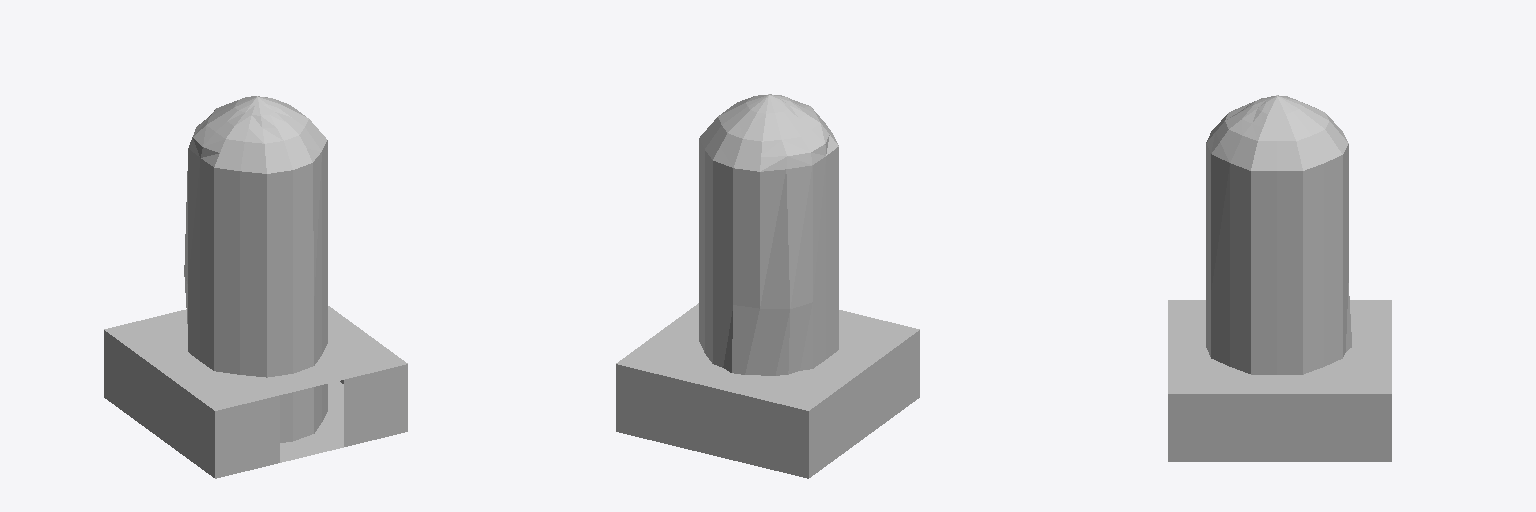
The model's file is Stockpile.obj.
3 views of the same model, side by side, from view 1: azimuth 30°, elevation 25°; view 2: azimuth 150°, elevation 25°; view 3: azimuth 270°, elevation 25° (orthographic).
Parts seen in each view (by area): view 1: Cube.001, Cube; view 2: Cube.001, Cube; view 3: Cube.001, Cube.
Part boxes in pixels (bbox=[...]): Cube.001: bbox=[184, 96, 327, 442]; Cube: bbox=[104, 306, 407, 478]; Cube.001: bbox=[699, 94, 838, 375]; Cube: bbox=[616, 303, 919, 478]; Cube.001: bbox=[1206, 95, 1351, 374]; Cube: bbox=[1168, 300, 1391, 461].
Bounding box in the file's own units: 0.7764 × 1.23 × 0.7764.